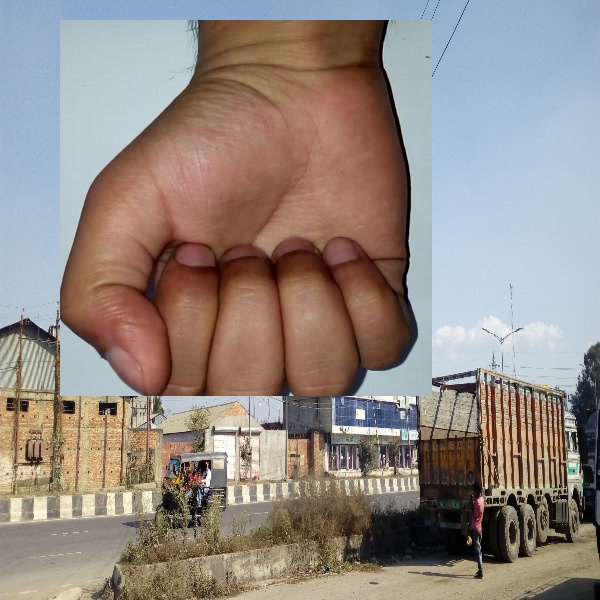A: (60, 20, 432, 396)
